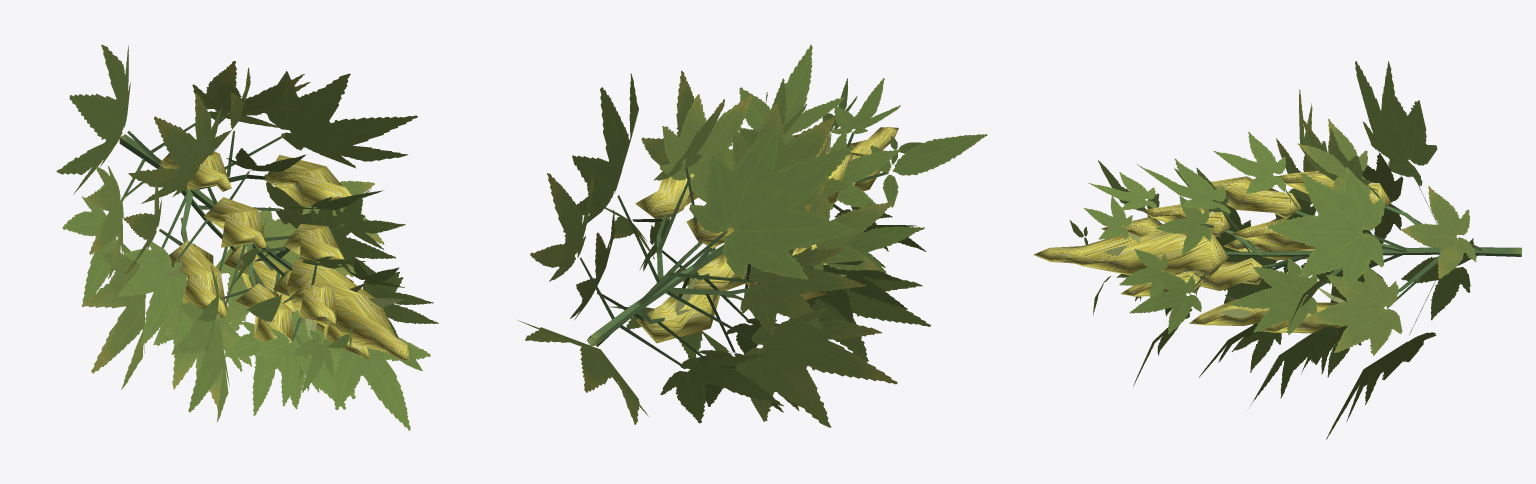
The model's file is p_gold_hybrid_ripe_c0_cards.obj.
3 renders of one model, left to right at view 1: azimuth 30°, elevation 25°; view 2: azimuth 150°, elevation 25°; view 3: azimuth 270°, elevation 25°, orthographic. The views are drawn at different scales.
Bounding box in the file's own units: 1.28 × 1.3 × 1.56.
1 material, 1 textured.
